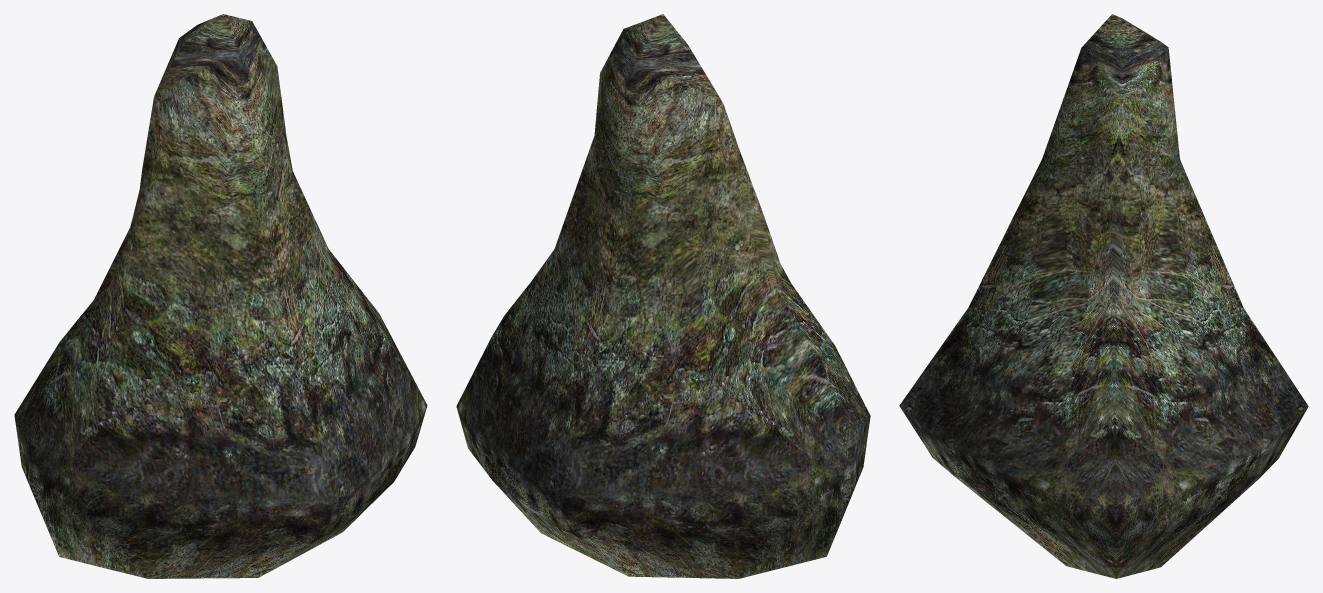
The model's file is thm_all_cave_stalagmite_damprock_b3_l0.fbx.
The picture shows the model from 3 angles, left to right: view 1: azimuth 30°, elevation 25°; view 2: azimuth 150°, elevation 25°; view 3: azimuth 270°, elevation 25°; orthographic projection. The views are drawn at different scales.
Parts seen in each view (by area): view 1: mesh_node; view 2: mesh_node; view 3: mesh_node.
Boxes of the visible parts, left/top/right/bottom form: mesh_node: left=14, top=14, right=427, bottom=578; mesh_node: left=456, top=14, right=870, bottom=578; mesh_node: left=899, top=14, right=1308, bottom=578.
Bounding box in the file's own units: 2.57 × 3.55 × 2.47.
